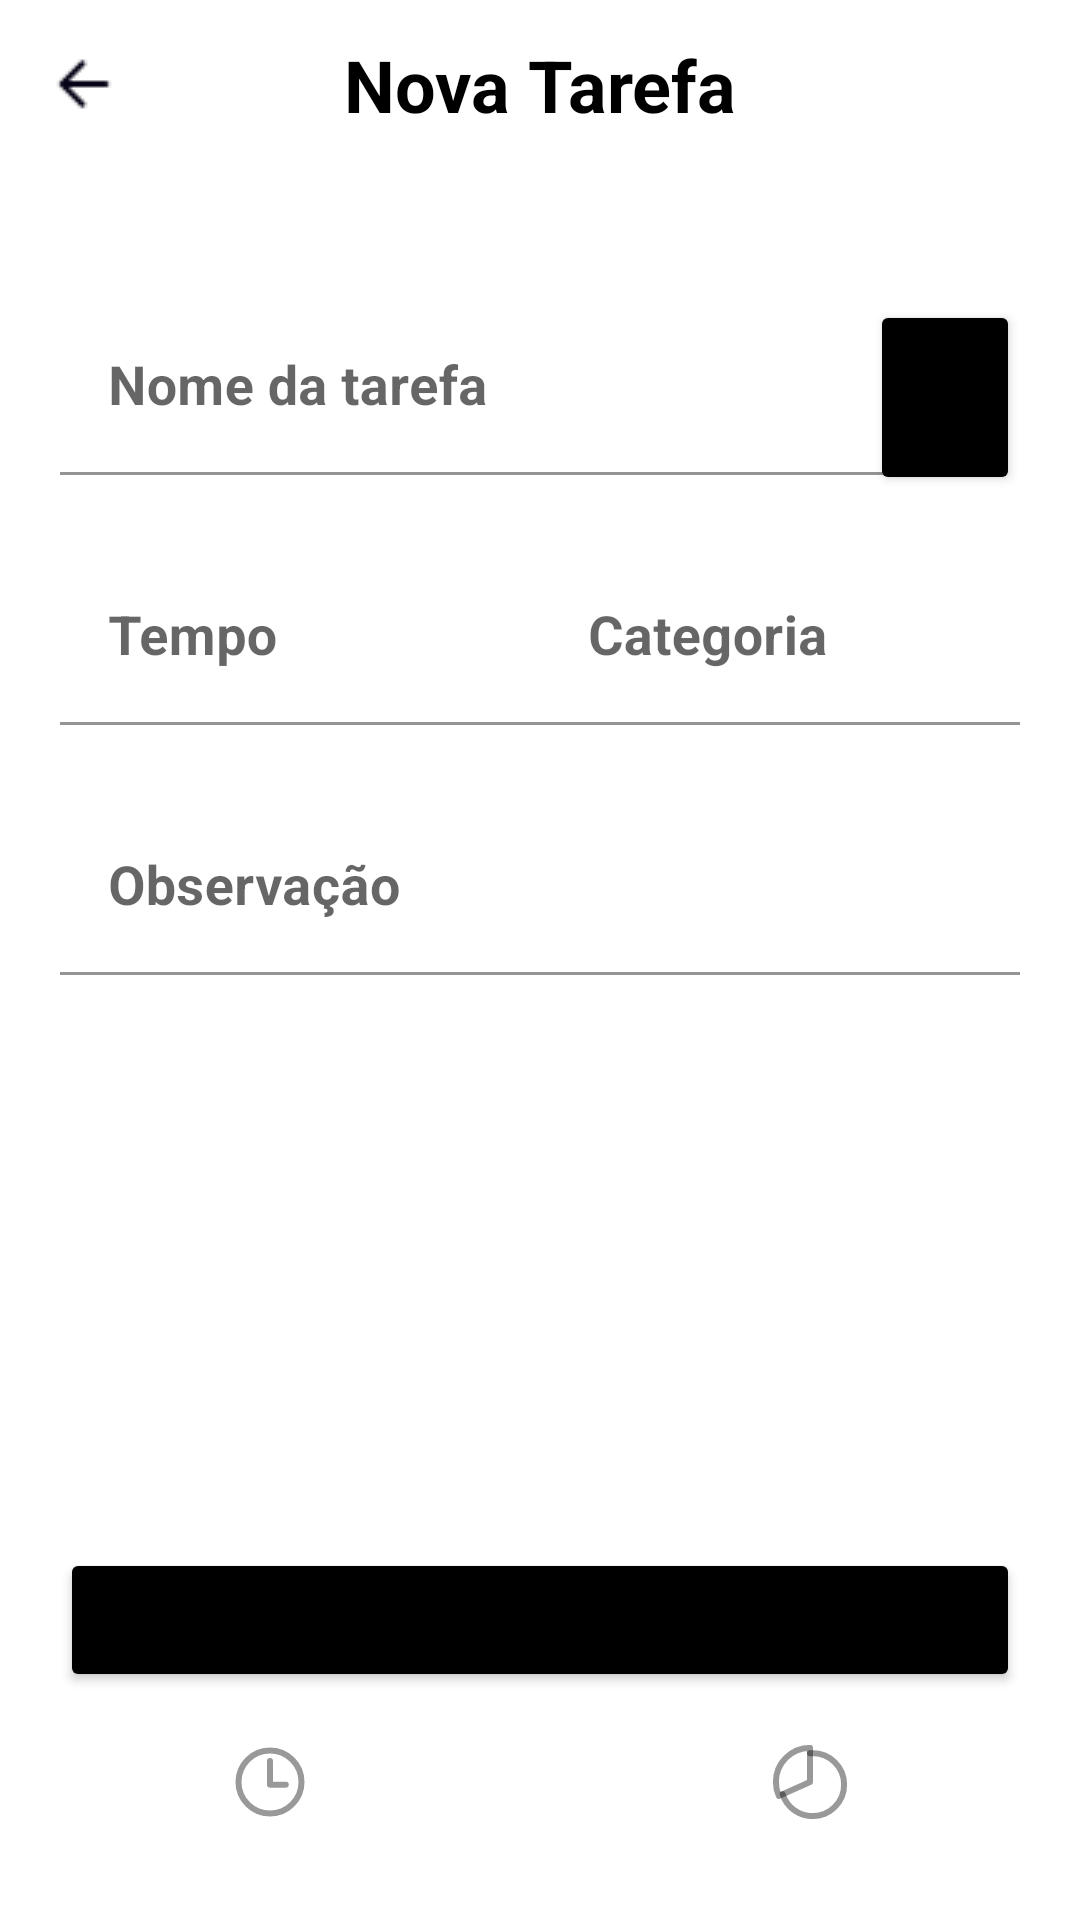

Screen size 1080×1920. Icon name, then its box in pixels as bbox=[x1, y1, x2, y2]:
grafico: bbox=[773, 1745, 847, 1819]
timer: bbox=[235, 1747, 305, 1817]
voltar: bbox=[58, 59, 110, 109]
